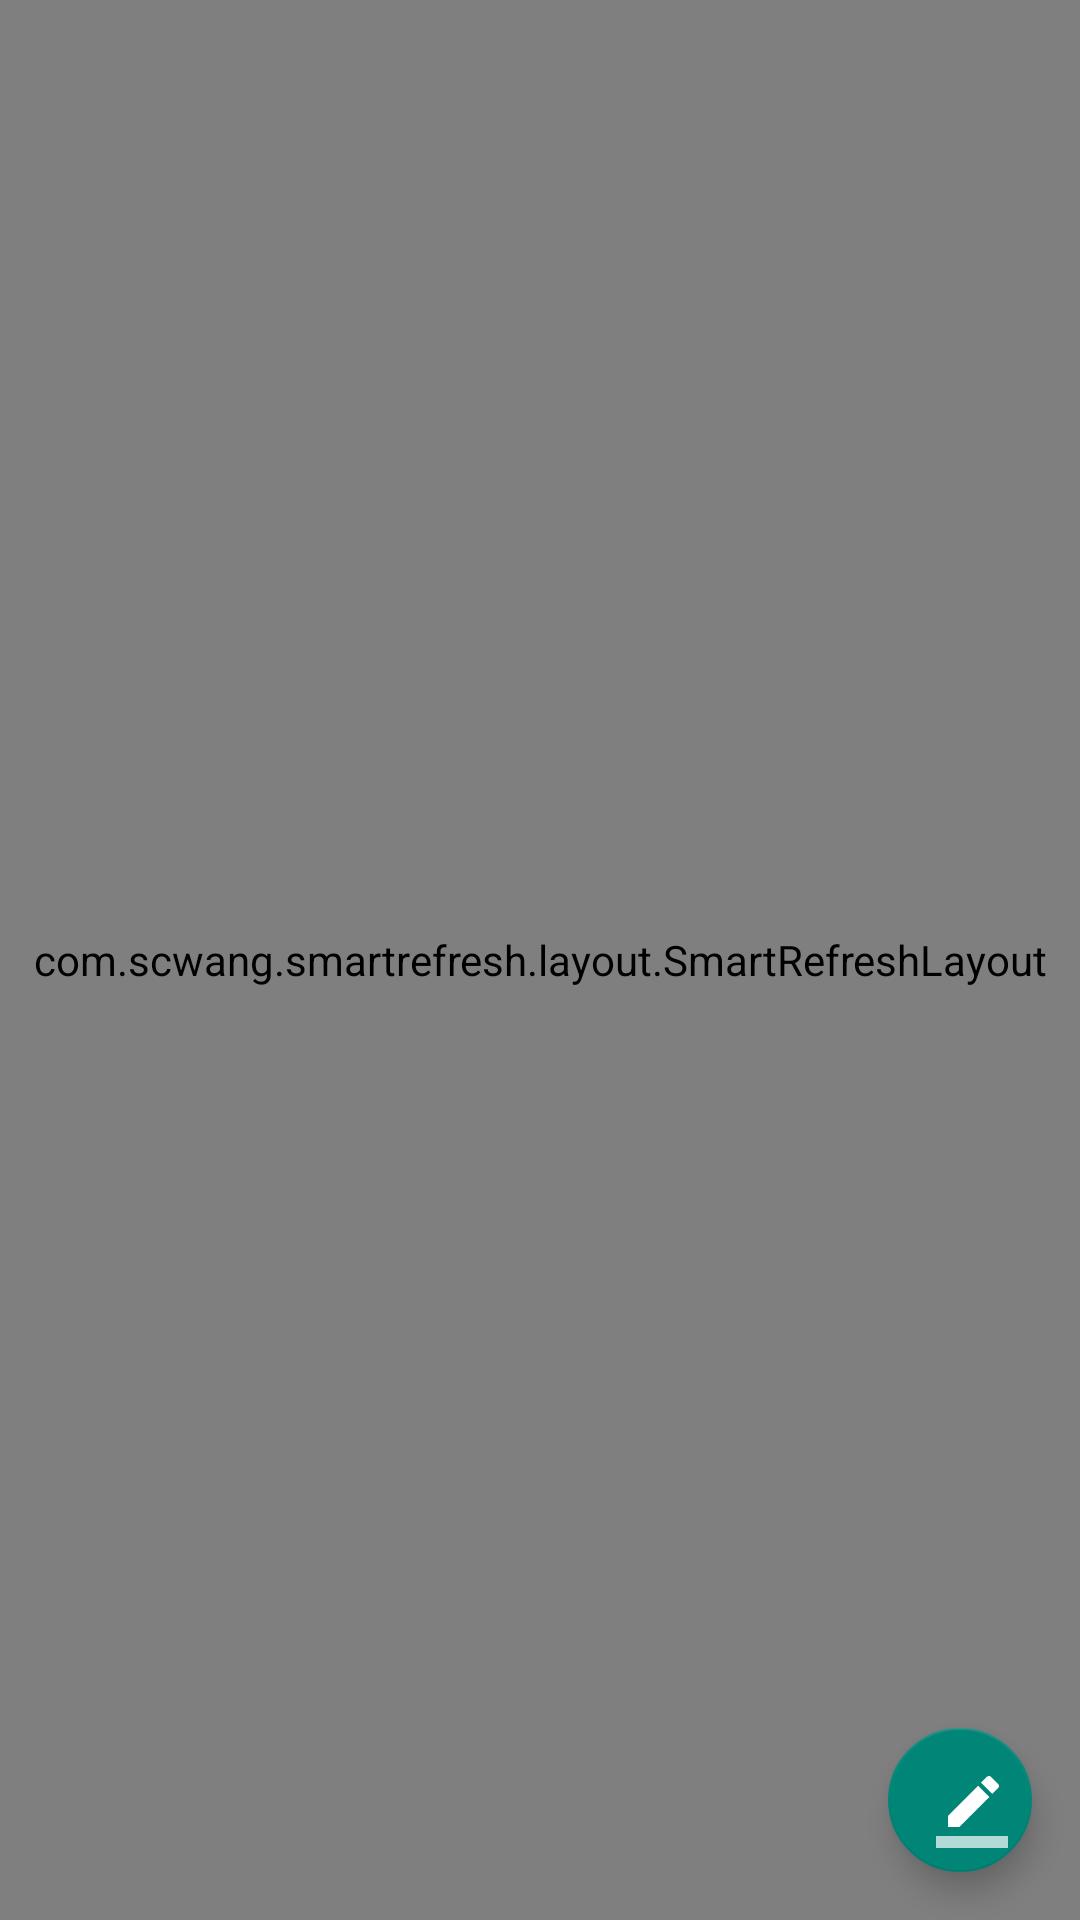

Where to tap for icons on this 1080x1920 app screen, as point (x, y):
border: point (960, 1800)
